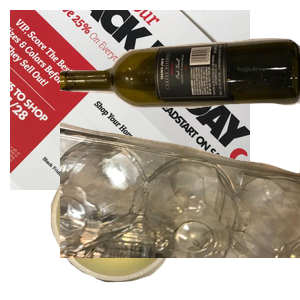glass: (60, 36, 300, 147)
paper: (10, 10, 250, 190)
plastic: (60, 120, 300, 300)
trash: (48, 152, 219, 300)
